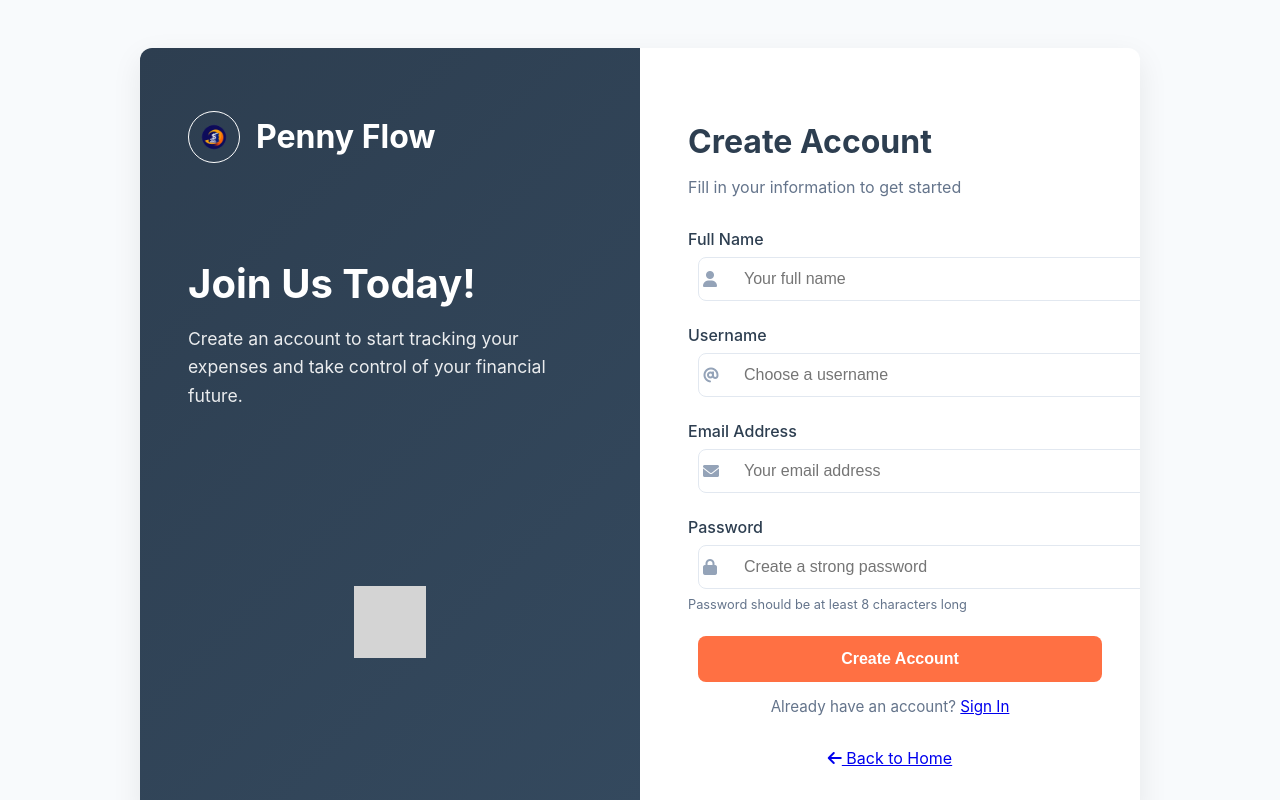
Scenario: Register Page › should show an error if registration fails
Fill form with duplicate username
Type "Existing User" into the field named "name" at (931,279), box [698,257,1164,301]
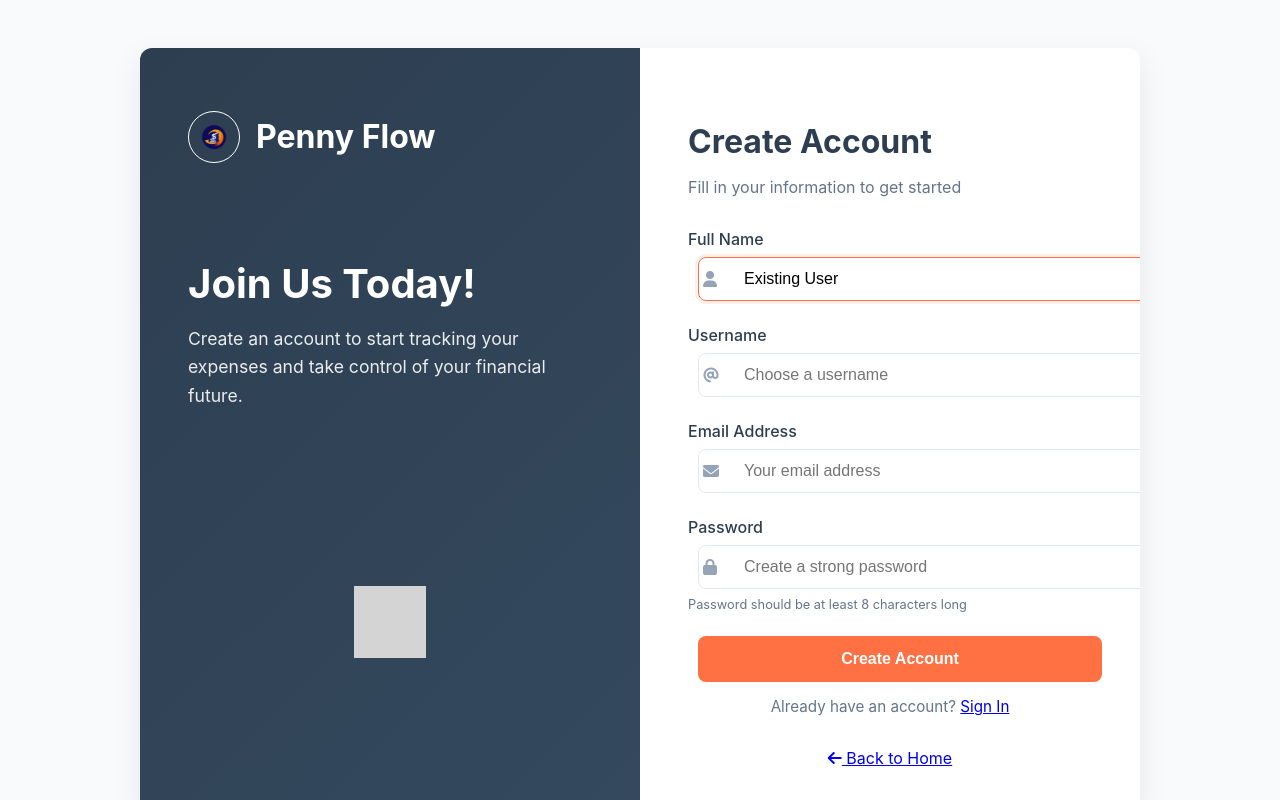
Type "existinguser" into the field named "username" at (931,375), box [698,353,1164,397]
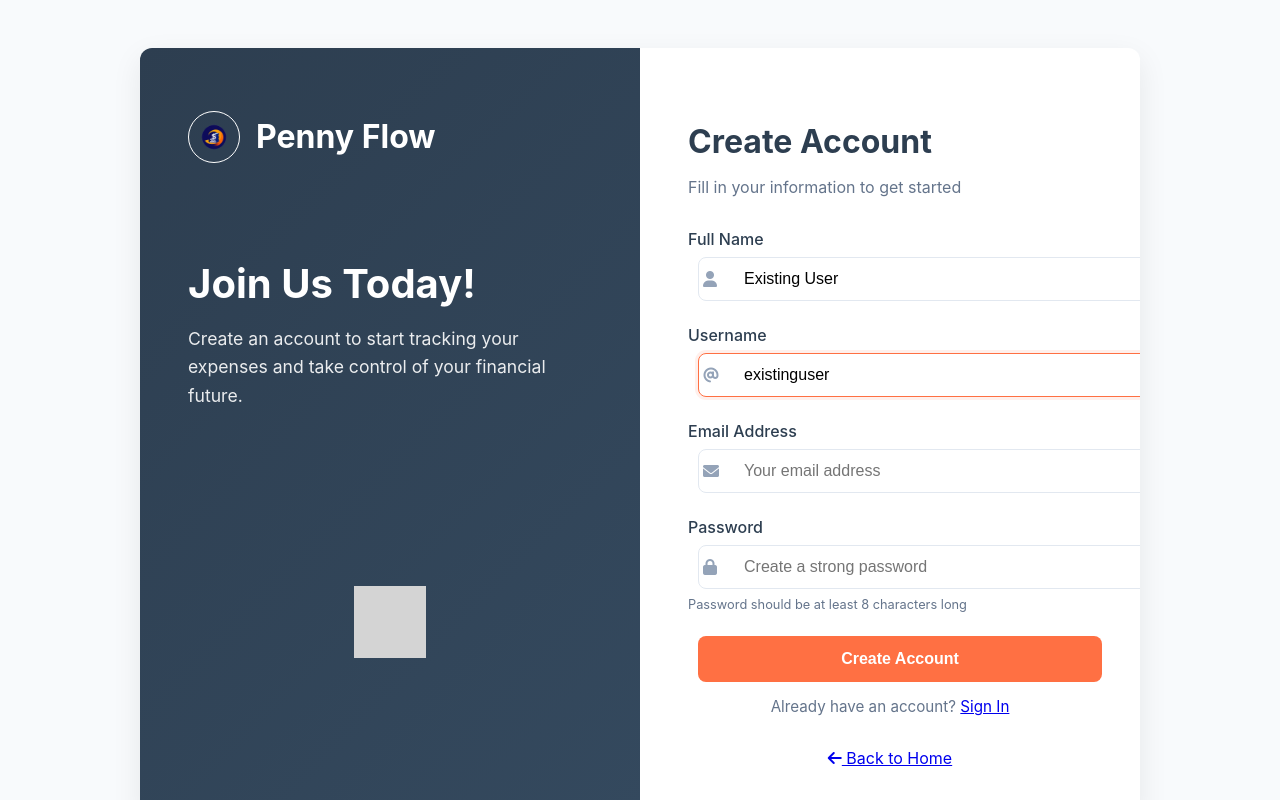
Type "exist@example.com" into the field named "email" at (931,471), box [698,449,1164,493]
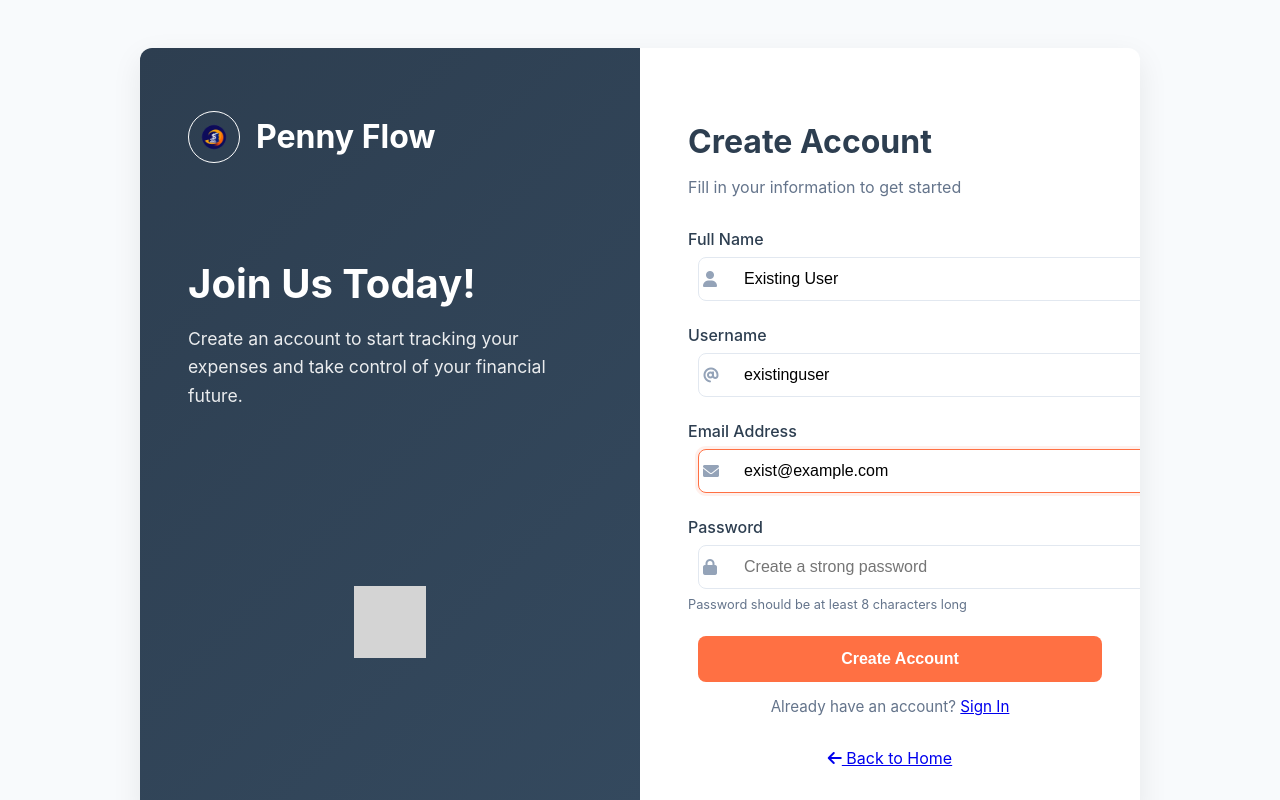
Type "securepass" into the password field named "password" at (931,567), box [698,545,1164,589]
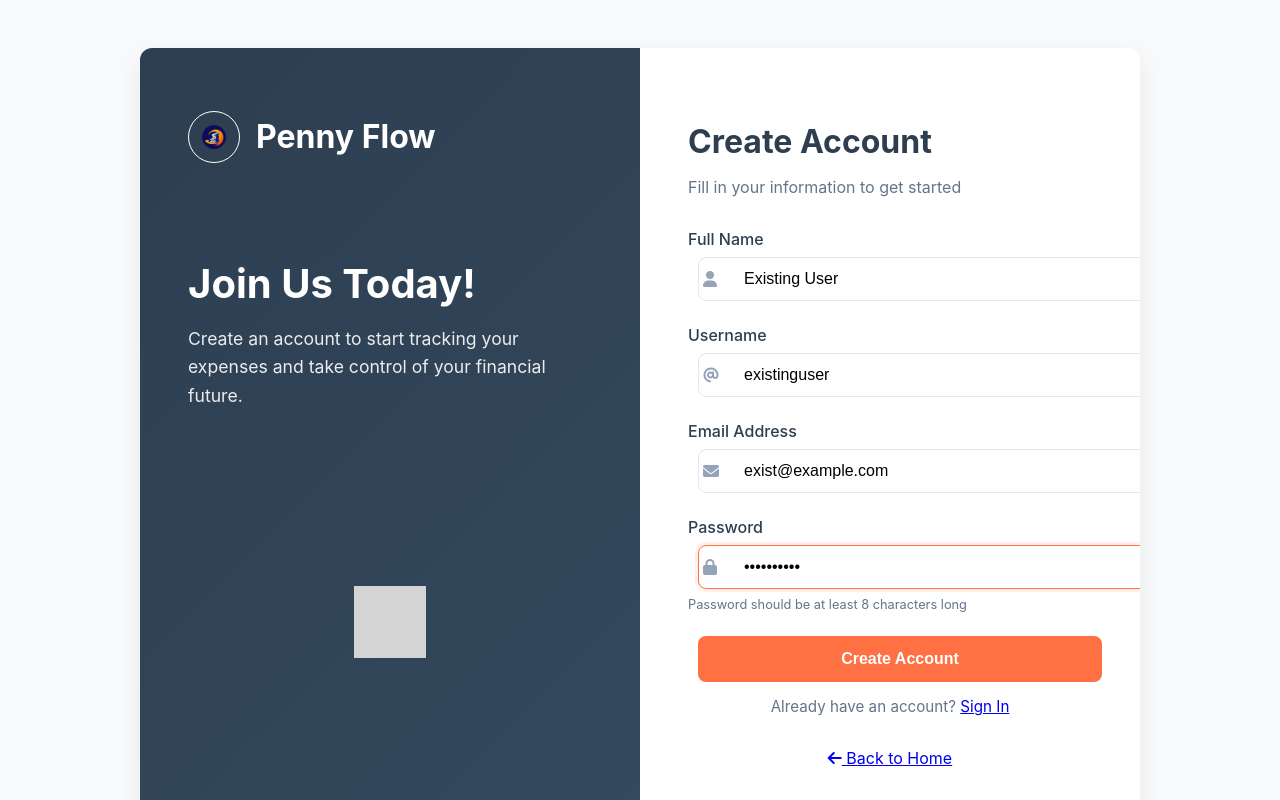
Click the submit button at (900,659), box [698,636,1102,682]
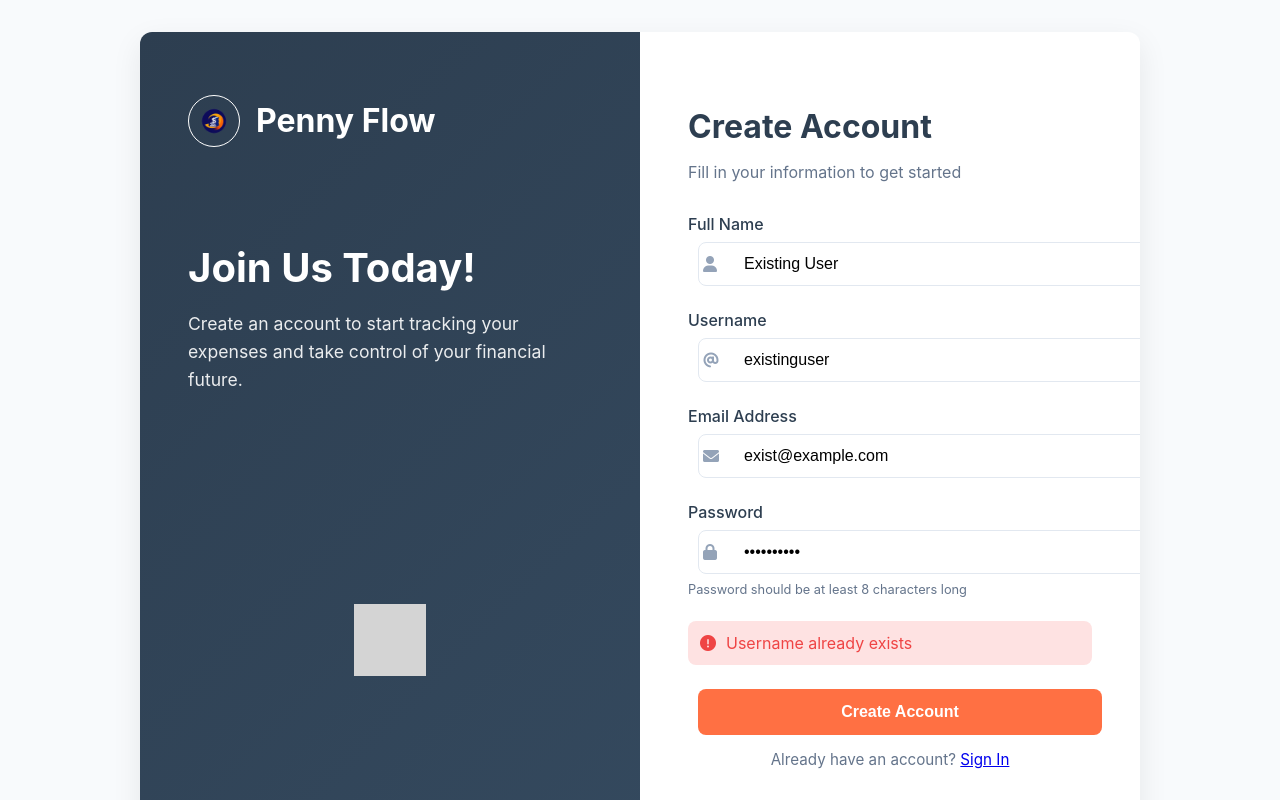
Check: the element with class "error-message" reads "Username already exists", box [726,633,912,653]
